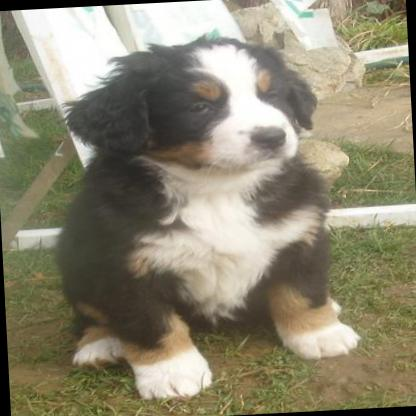Bernese_mountain_dog: (55, 25, 361, 403)
